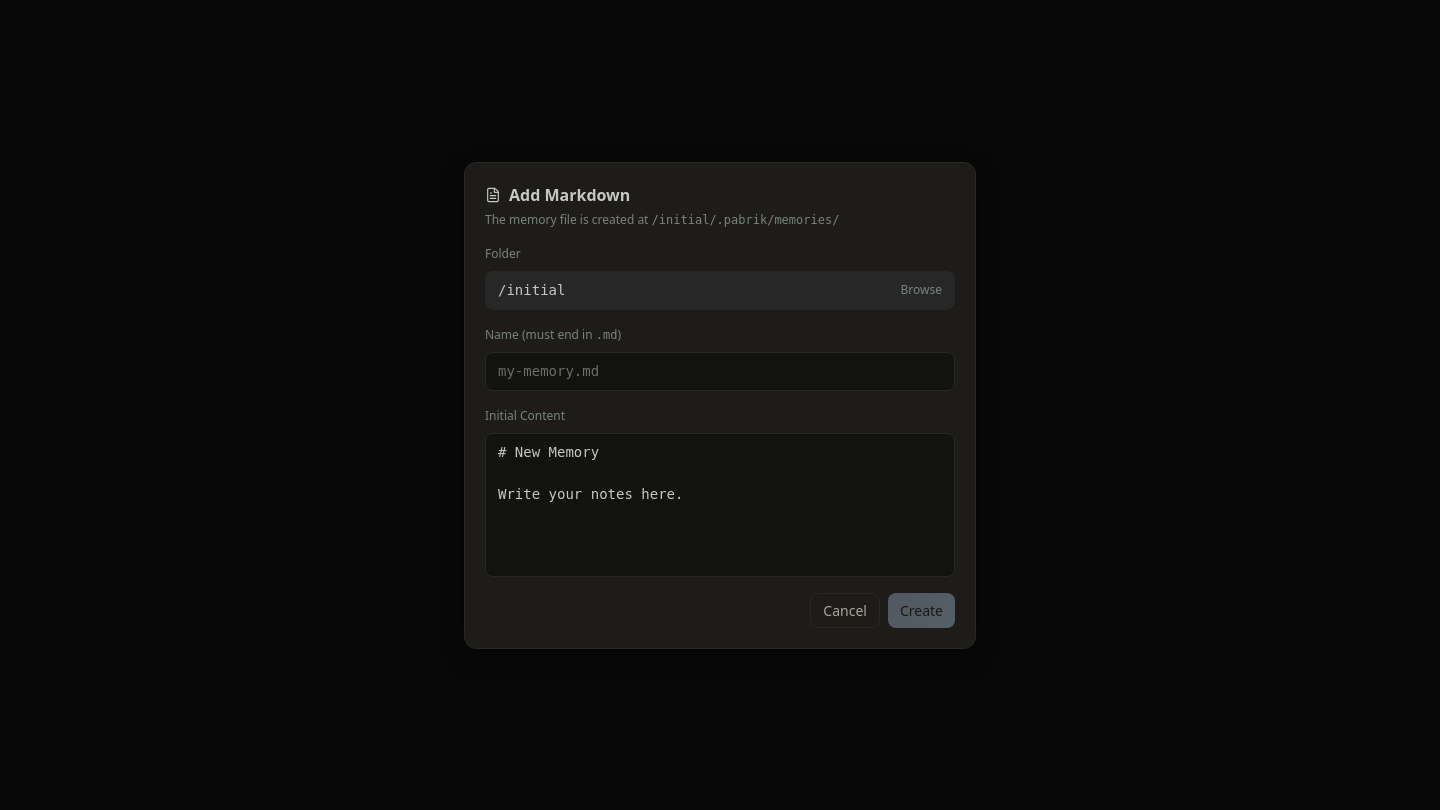
Test: AddMemoryDialog — folder picker › picker cancel returns the user to the dialog with cwd unchanged
The width and height of the screenshot is (1440, 810).
Click the button with test id "add-memory-choose-folder".
click(532, 290)  # box [485,270,955,310]
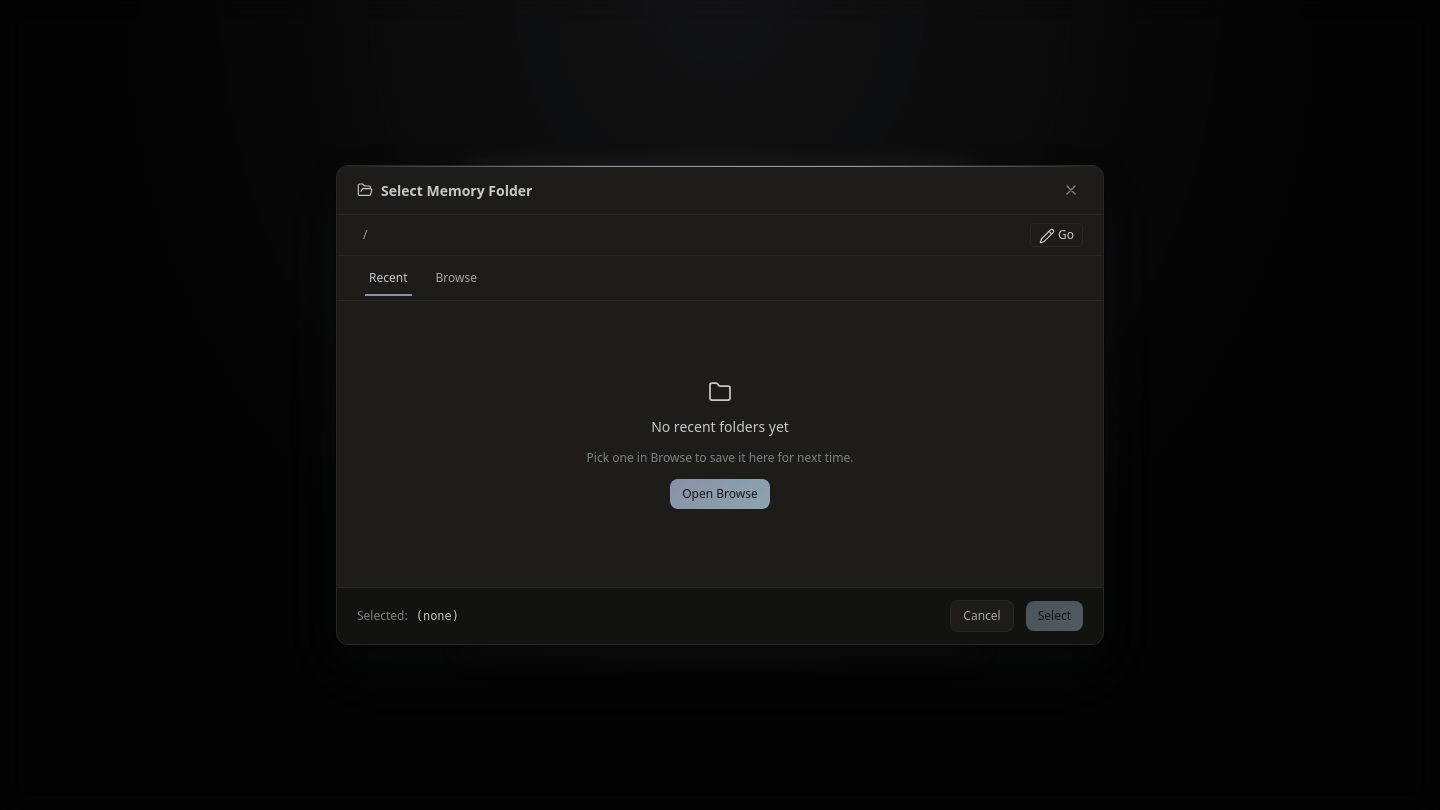
Click the button with test id "file-picker-cancel".
click(982, 616)  # box [950,600,1014,632]
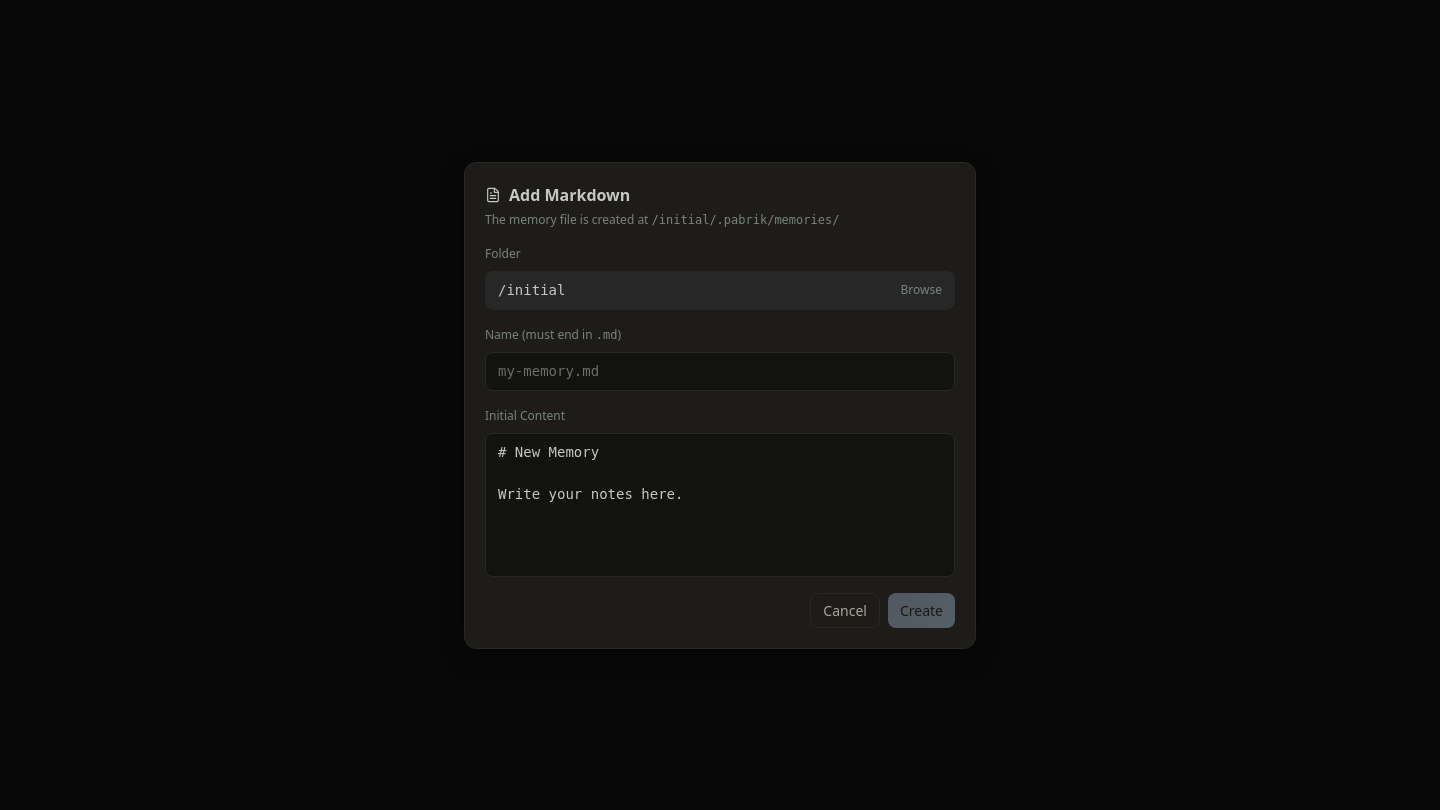
Expected: the button with test id "add-memory-choose-folder" shows "/initial", [485,270,955,310]
Result: the element with test id "file-picker-dialog" is gone
